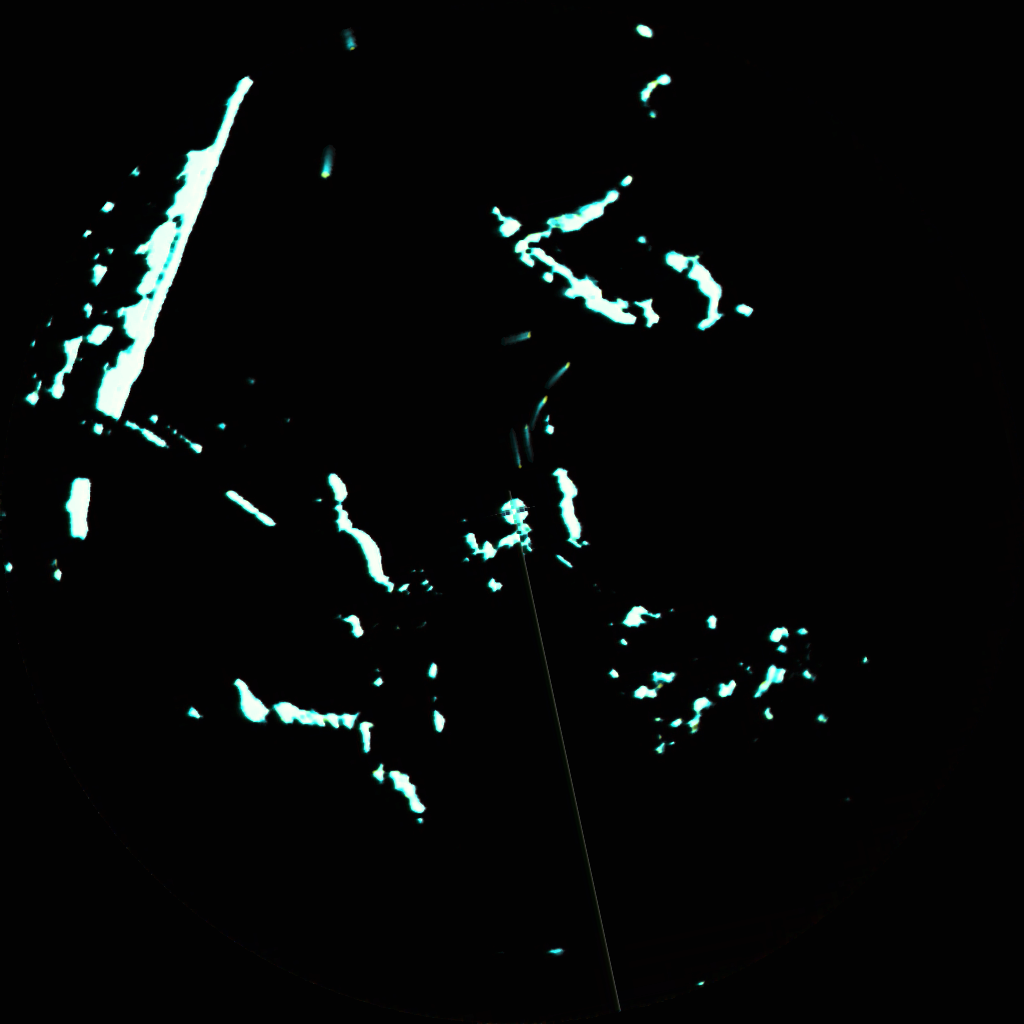B: (504, 332, 527, 347), (523, 423, 534, 454), (323, 149, 334, 177), (344, 32, 357, 53), (513, 445, 523, 466), (554, 364, 569, 378), (535, 399, 546, 415)
